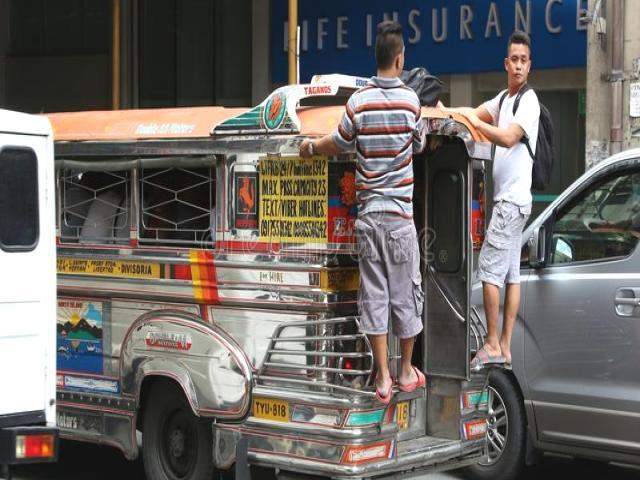jeepney: (48, 90, 501, 480)
